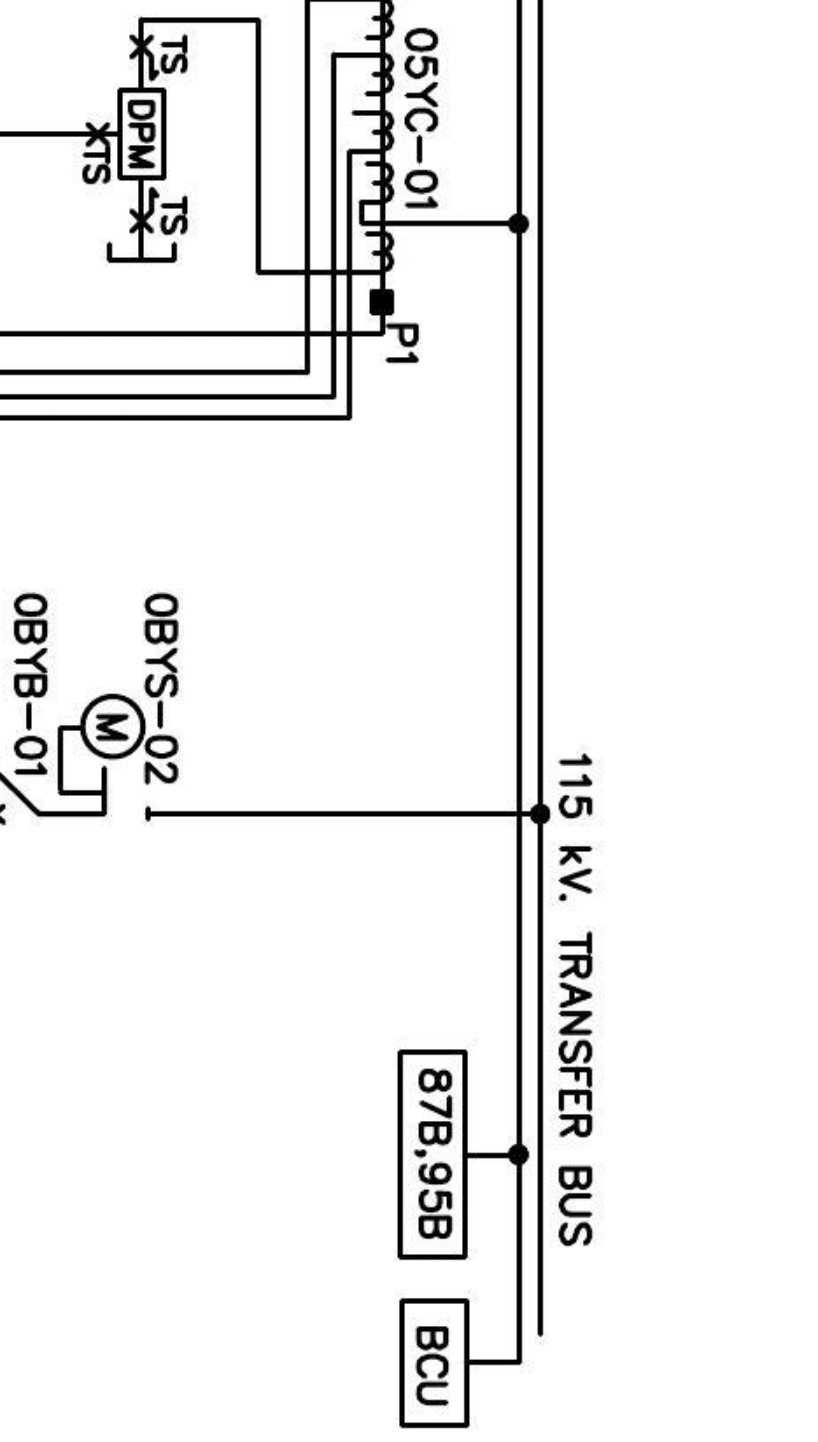115_1way_ds_w_motor: (57, 692, 152, 822)
BCU: (398, 1297, 471, 1430)
DPM: (117, 87, 167, 181)
